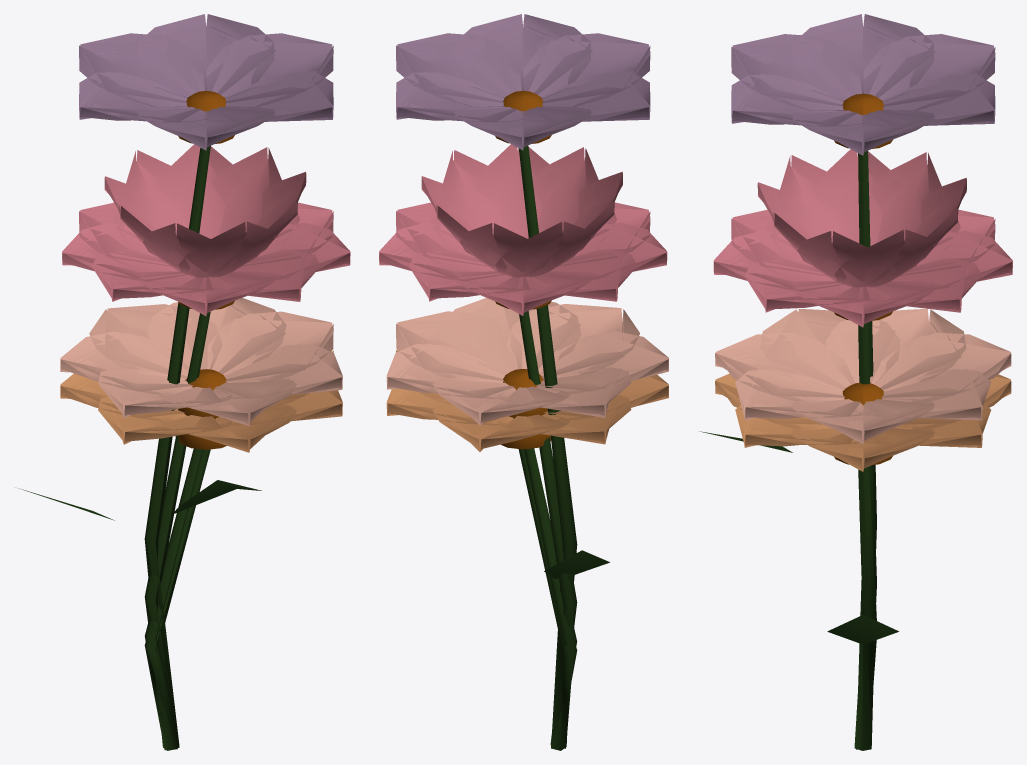
The model's file is flowers.glb.
3 renders of one model, left to right at view 1: azimuth 30°, elevation 25°; view 2: azimuth 150°, elevation 25°; view 3: azimuth 270°, elevation 25°, orthographic. The views are drawn at different scales.
Visible parts, largest first — view 1: flower_petal_rose_near, flower_petal_bluebell_far, flower_petal_ivory_far, flower_petal_rose_far, flower_petal_bluebell_near, flower_petal_ivory_near, flower_petal_golden_far, flower_stem_bluebell_near, flower_stem_rose_near, flower_petal_golden_near, flower_stem_ivory_near, flower_stem_golden_near (+5 smaller); view 2: flower_petal_rose_near, flower_petal_bluebell_far, flower_petal_ivory_far, flower_petal_rose_far, flower_petal_bluebell_near, flower_petal_ivory_near, flower_petal_golden_far, flower_stem_bluebell_near, flower_stem_rose_near, flower_petal_golden_near, flower_stem_ivory_near, flower_stem_golden_near (+5 smaller); view 3: flower_petal_rose_near, flower_petal_ivory_far, flower_petal_bluebell_far, flower_petal_rose_far, flower_petal_bluebell_near, flower_petal_ivory_near, flower_petal_golden_far, flower_petal_golden_near, flower_stem_bluebell_near, flower_stem_rose_near, flower_stem_golden_near, flower_stem_bluebell_far (+2 smaller).
Boxes of the visible parts, box(x1,y1,x2,y2) form: flower_petal_rose_near: box(62, 144, 350, 315); flower_petal_bluebell_far: box(79, 14, 333, 150); flower_petal_ivory_far: box(60, 299, 342, 425); flower_petal_rose_far: box(62, 208, 350, 315); flower_petal_bluebell_near: box(79, 14, 333, 150); flower_petal_ivory_near: box(60, 298, 342, 425); flower_petal_golden_far: box(60, 350, 342, 452); flower_stem_bluebell_near: box(146, 146, 210, 750); flower_stem_rose_near: box(19, 311, 261, 750); flower_petal_golden_near: box(60, 373, 342, 452); flower_stem_ivory_near: box(146, 448, 203, 750); flower_stem_golden_near: box(146, 449, 210, 749); flower_petal_rose_near: box(379, 144, 667, 315); flower_petal_bluebell_far: box(396, 14, 650, 150); flower_petal_ivory_far: box(386, 299, 668, 425); flower_petal_rose_far: box(379, 208, 667, 315); flower_petal_bluebell_near: box(396, 14, 650, 150); flower_petal_ivory_near: box(386, 298, 668, 425); flower_petal_golden_far: box(386, 350, 668, 451); flower_stem_bluebell_near: box(519, 145, 577, 750); flower_stem_rose_near: box(519, 311, 609, 750); flower_petal_golden_near: box(386, 350, 668, 451); flower_stem_ivory_near: box(524, 448, 577, 750); flower_stem_golden_near: box(518, 449, 577, 748); flower_petal_rose_near: box(713, 149, 1012, 326); flower_petal_ivory_far: box(715, 309, 1010, 444); flower_petal_bluebell_far: box(731, 14, 995, 155); flower_petal_rose_far: box(713, 216, 1012, 327); flower_petal_bluebell_near: box(731, 14, 995, 154); flower_petal_ivory_near: box(715, 308, 1011, 443); flower_petal_golden_far: box(715, 376, 1010, 471); flower_petal_golden_near: box(715, 373, 1011, 471); flower_stem_bluebell_near: box(854, 151, 876, 750); flower_stem_rose_near: box(699, 322, 898, 750); flower_stem_golden_near: box(858, 467, 876, 750); flower_stem_bluebell_far: box(856, 152, 873, 749).
Bounding box in the file's own units: 0.4172 × 1 × 0.4164.
